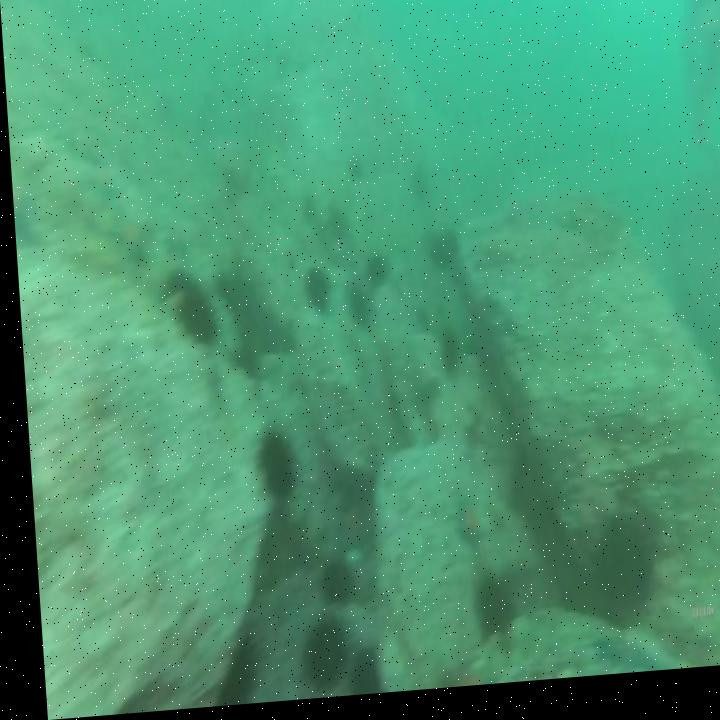echinus: (582, 535, 646, 637), (293, 628, 334, 692), (252, 438, 288, 497), (466, 589, 504, 642), (177, 304, 212, 347), (313, 565, 344, 606), (299, 268, 324, 316), (428, 239, 456, 278), (342, 291, 368, 326), (437, 326, 456, 368), (364, 263, 386, 292)
starfish: (448, 506, 483, 551), (112, 221, 145, 267), (332, 508, 364, 546), (85, 168, 116, 207)
